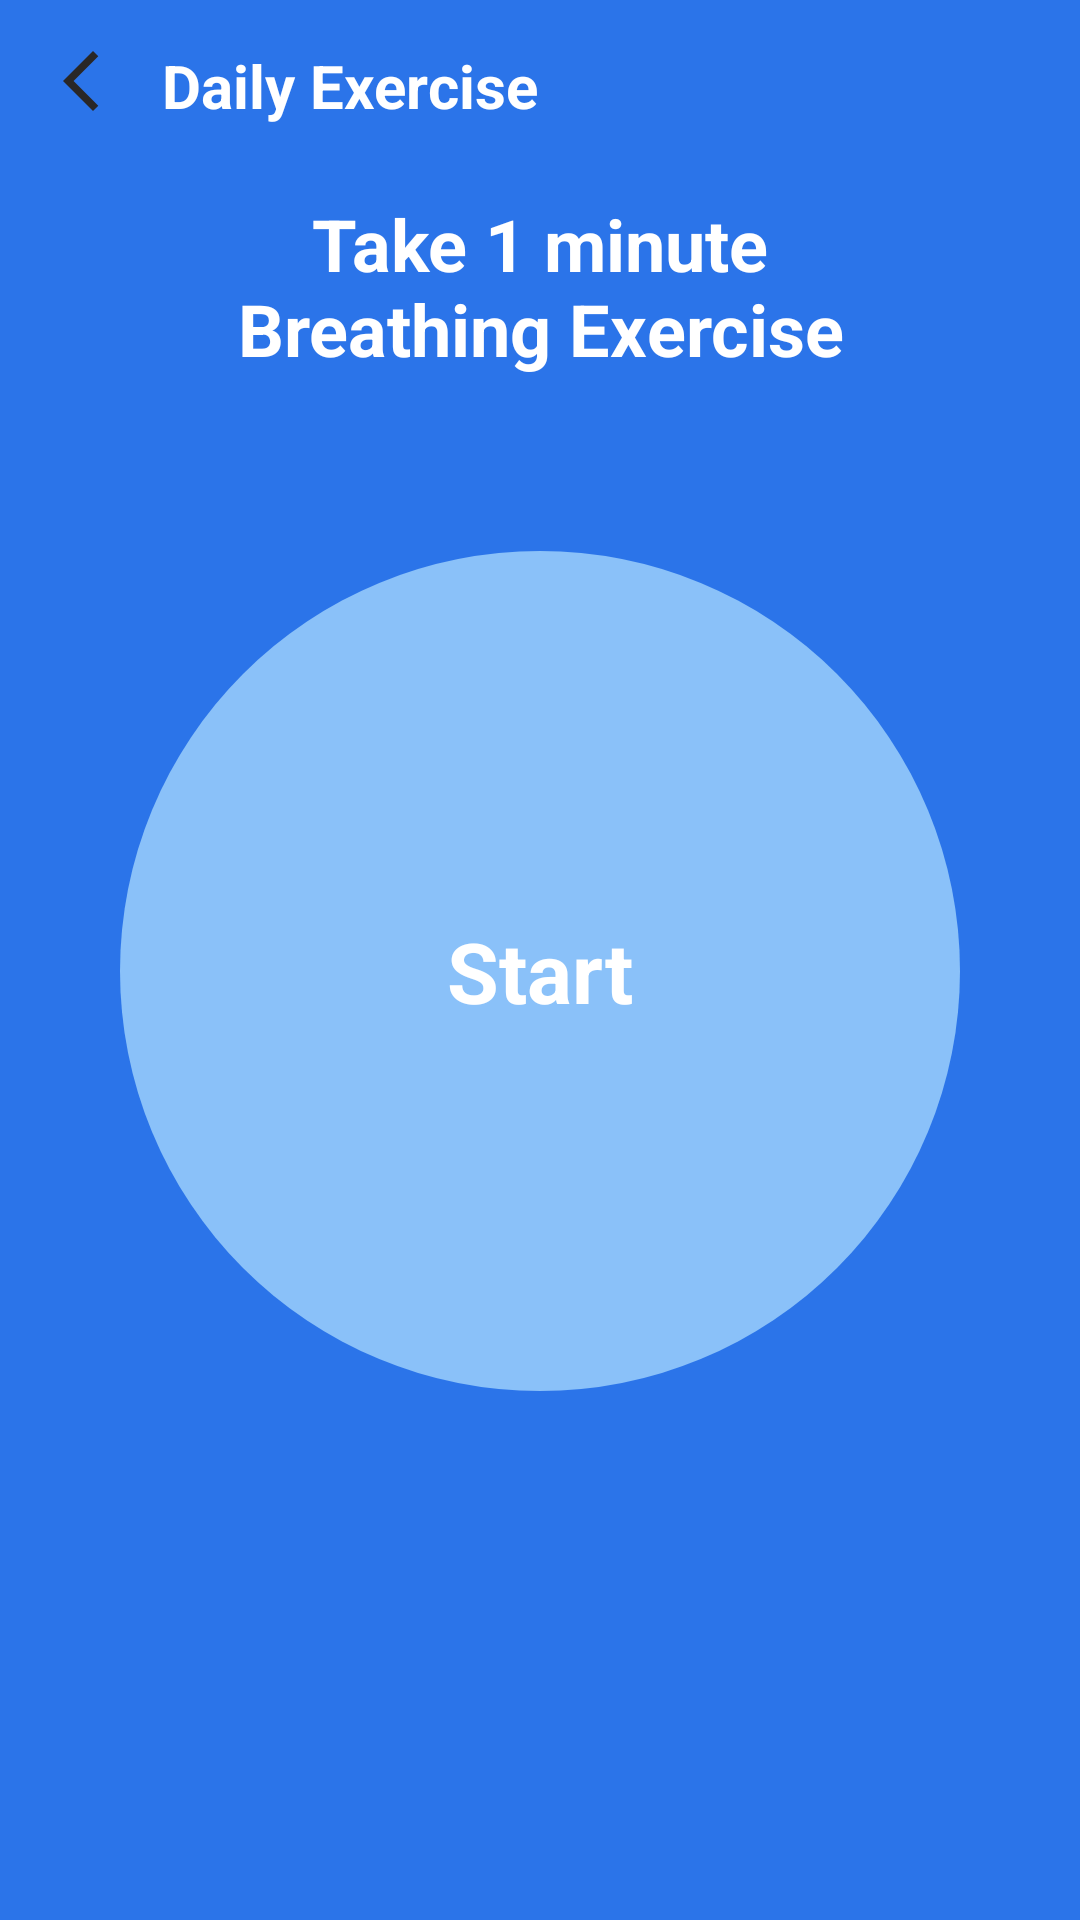

Where to tap for icons on this 1080×1920 app screen, as [x,y]:
arrow back: [80,81]
